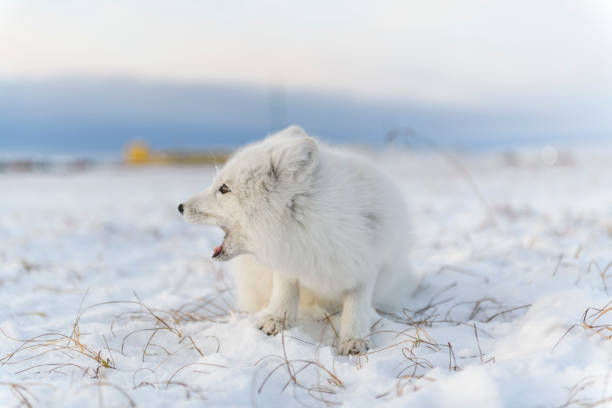arcticfox: (173, 159, 264, 268)
